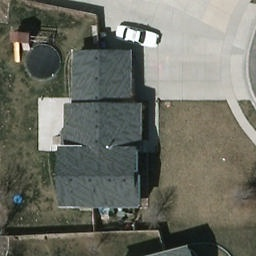car: (113, 22, 163, 51)
